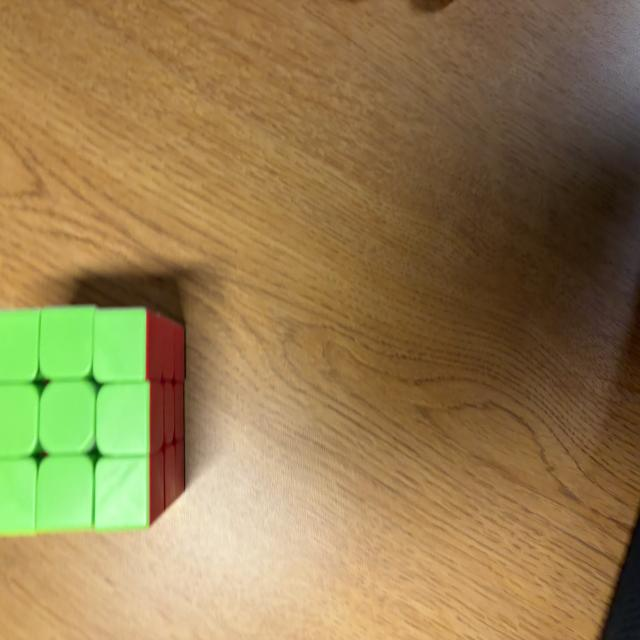Rubiks Cube: (0, 306, 186, 536)
